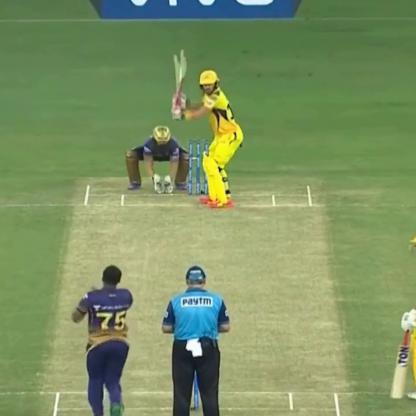bat: (164, 45, 194, 116)
pitch: (28, 161, 366, 415)
